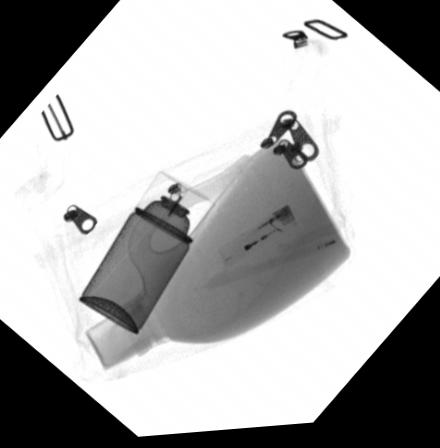Lighter: (213, 209, 297, 274)
Sprayer: (76, 173, 215, 336)
